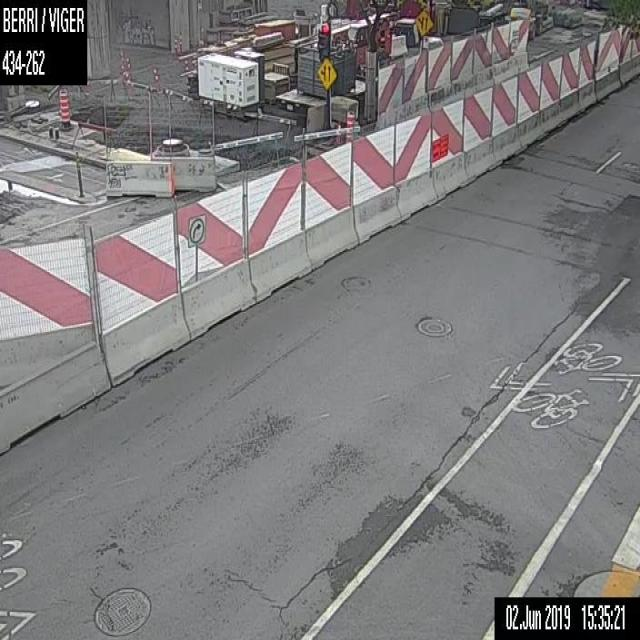construction: (0, 0, 639, 457), (57, 86, 68, 126), (346, 110, 355, 141), (337, 120, 342, 141)
